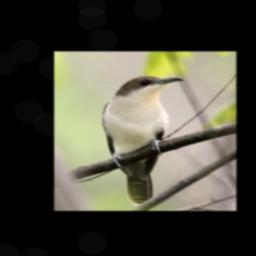Cuckoo: (102, 75, 185, 207)
